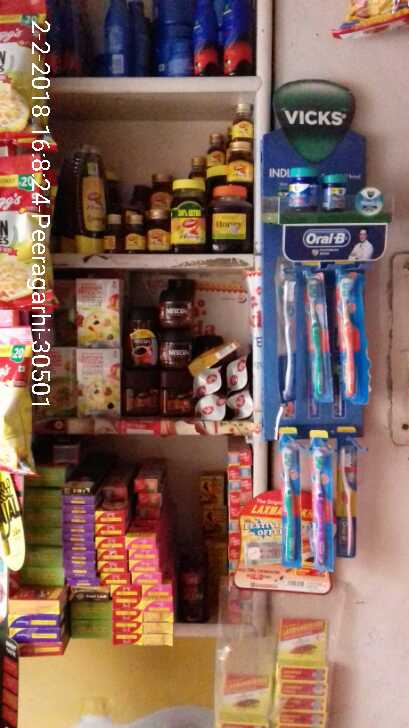pharmacy: (335, 261, 372, 400), (302, 270, 334, 404), (276, 426, 304, 565), (309, 428, 335, 570), (337, 427, 357, 556), (287, 167, 321, 211), (321, 174, 349, 211)
